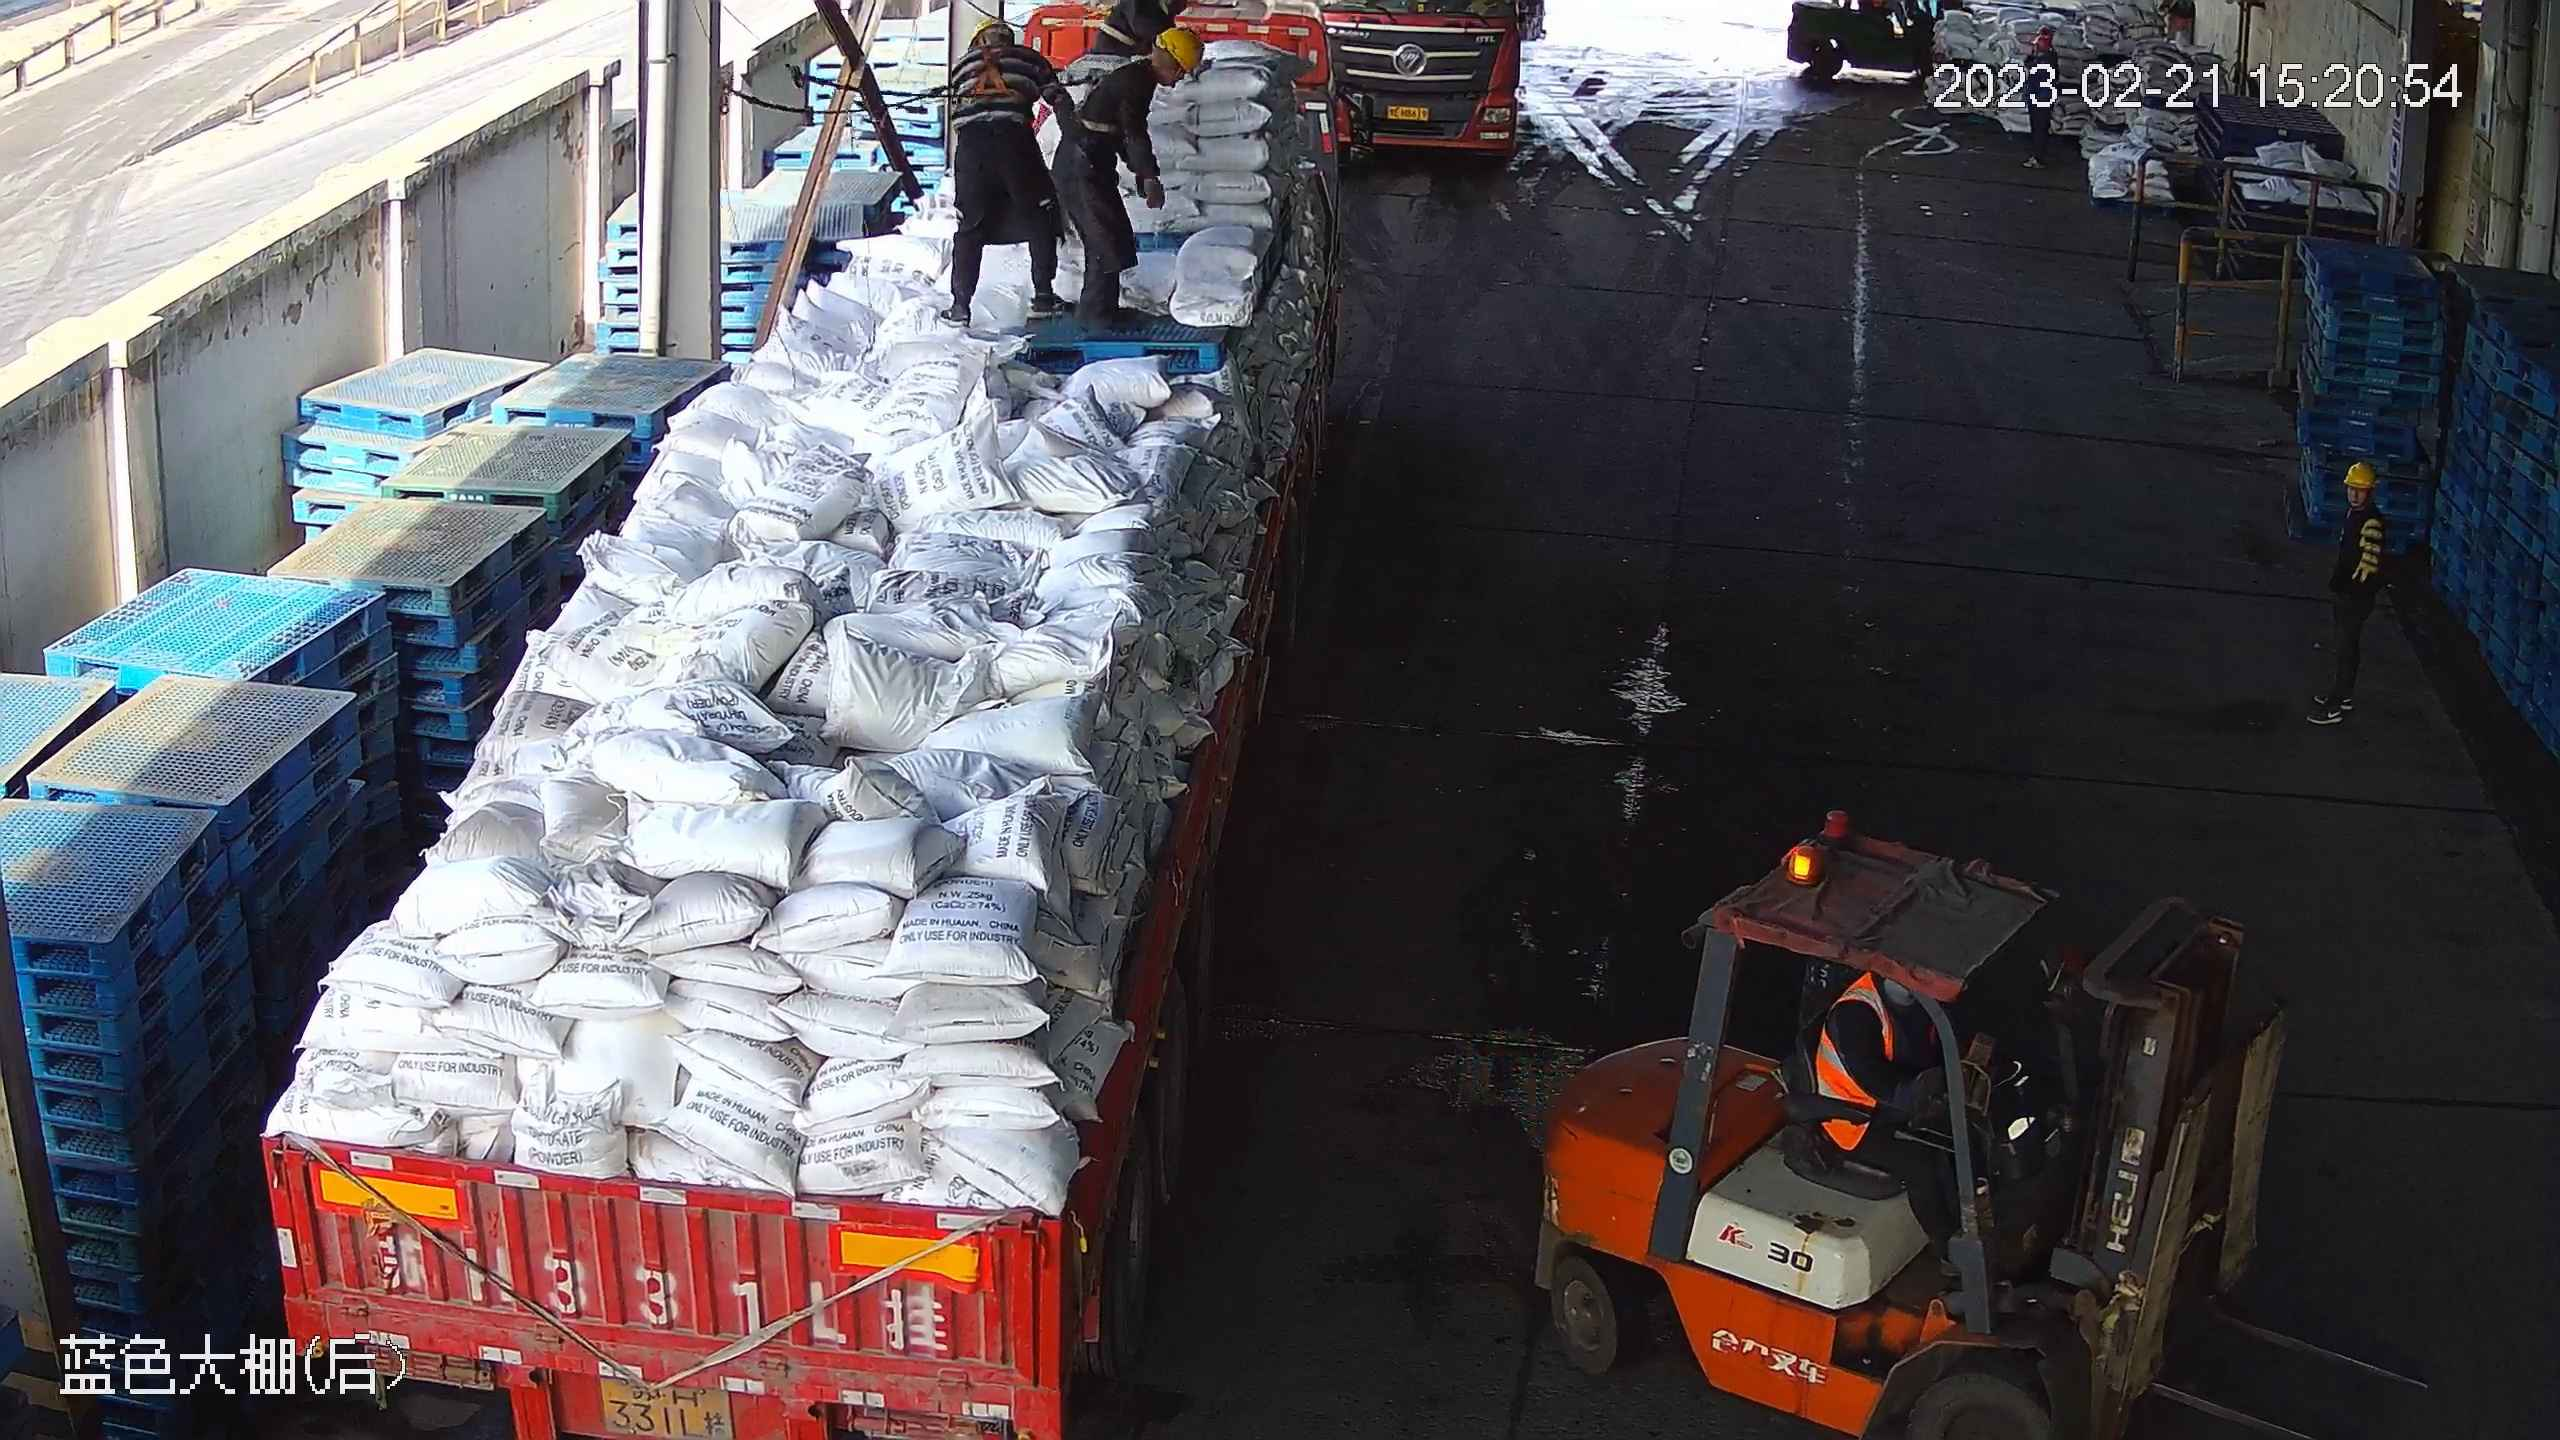belt: (1075, 67, 1132, 141), (963, 42, 1019, 99), (1100, 9, 1140, 51)
head: (1820, 961, 1928, 1067), (1078, 24, 1192, 122), (926, 13, 1053, 95), (2334, 461, 2395, 538)
helmet: (1159, 24, 1210, 74), (964, 12, 1021, 49), (2344, 461, 2383, 492)
people: (1055, 24, 1210, 337), (930, 12, 1073, 330), (1820, 960, 1969, 1180), (2306, 459, 2395, 729)
truck: (248, 3, 1362, 1440), (1323, 1, 1544, 168)
